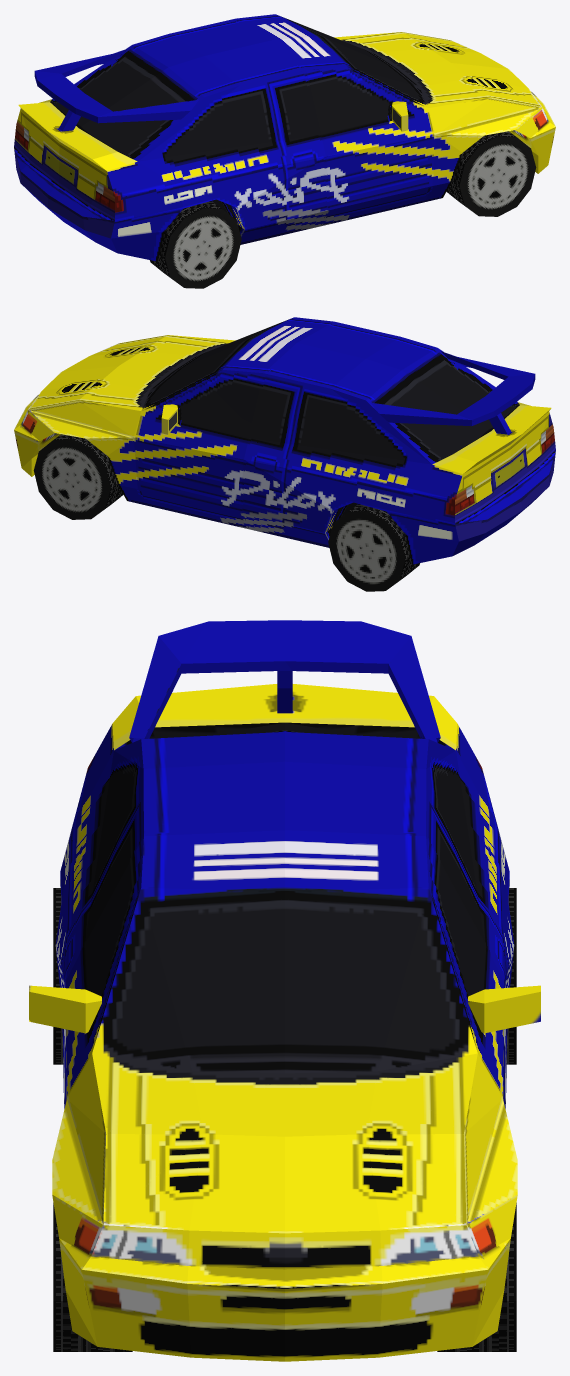
Rendered from RSTurbo.fbx.
The picture shows the model from 3 angles, top to bottom: view 1: azimuth 30°, elevation 25°; view 2: azimuth 150°, elevation 25°; view 3: azimuth 270°, elevation 25°; orthographic projection. The views are drawn at different scales.
Parts seen in each view (by area): view 1: TurboRSBody.001, rRWheel.012, rFWheel.028; view 2: TurboRSBody.001, lRWheel.012, lFWheel.028; view 3: TurboRSBody.001, lFWheel.028, rFWheel.028, lRWheel.012, rRWheel.012.
Boxes of the visible parts, x1,y1,x2,y2 form: TurboRSBody.001: [14, 14, 555, 261]; rRWheel.012: [150, 201, 241, 288]; rFWheel.028: [446, 131, 536, 216]; TurboRSBody.001: [14, 317, 555, 564]; lRWheel.012: [328, 504, 419, 591]; lFWheel.028: [33, 434, 123, 519]; TurboRSBody.001: [29, 620, 540, 1361]; lFWheel.028: [437, 1203, 516, 1351]; rFWheel.028: [53, 1203, 132, 1351]; lRWheel.012: [506, 888, 516, 1064]; rRWheel.012: [53, 888, 63, 1064].
Size of the model in its own units: 423 by 149 by 196.
3 materials, 3 textured.
